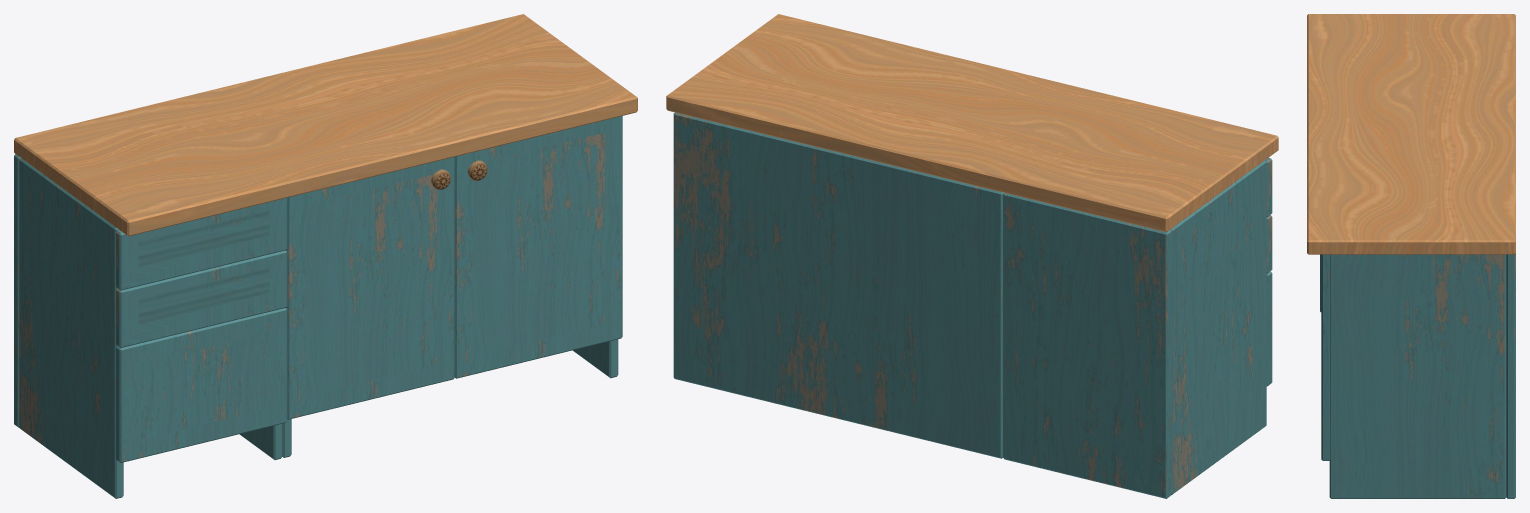
Rendered from drawer.glb.
3 views of the same model, side by side, from view 1: azimuth 30°, elevation 25°; view 2: azimuth 150°, elevation 25°; view 3: azimuth 270°, elevation 25° (orthographic). The views are drawn at different scales.
Parts seen in each view (by area): view 1: Cabinet_FrontA.005, CabinetTable_B.002, Cabinet_Side_B.012, Cabinet_FrontB.004, Cabinet_FrontC.003, Cabinet_Back_C.003, Cabinet_Side_B.011, Cabinet_Side_B.010; view 2: Cabinet_Back_B.005, CabinetTable_B.002, Cabinet_Back_C.003, Cabinet_Side_B.012, Cabinet_FrontC.003, Cabinet_FrontB.004; view 3: CabinetTable_B.002, Cabinet_Side_B.010, Cabinet_Back_B.005, Cabinet_FrontA.005.
Part boxes in pixels (left/top/right/bottom): Cabinet_FrontA.005: left=286, top=116, right=622, bottom=419; CabinetTable_B.002: left=14, top=14, right=637, bottom=236; Cabinet_Side_B.012: left=19, top=158, right=123, bottom=498; Cabinet_FrontB.004: left=116, top=308, right=287, bottom=462; Cabinet_FrontC.003: left=116, top=198, right=287, bottom=347; Cabinet_Back_C.003: left=14, top=154, right=20, bottom=427; Cabinet_Side_B.011: left=239, top=419, right=291, bottom=459; Cabinet_Side_B.010: left=573, top=339, right=618, bottom=378; Cabinet_Back_B.005: left=673, top=112, right=1003, bottom=458; CabinetTable_B.002: left=666, top=14, right=1278, bottom=232; Cabinet_Back_C.003: left=1003, top=193, right=1171, bottom=498; Cabinet_Side_B.012: left=1170, top=160, right=1266, bottom=494; Cabinet_FrontC.003: left=1265, top=157, right=1272, bottom=273; Cabinet_FrontB.004: left=1266, top=271, right=1272, bottom=386; CabinetTable_B.002: left=1307, top=14, right=1515, bottom=254; Cabinet_Side_B.010: left=1329, top=254, right=1506, bottom=498; Cabinet_Back_B.005: left=1506, top=253, right=1515, bottom=498; Cabinet_FrontA.005: left=1321, top=254, right=1330, bottom=460.
Size of the model in its own units: 1.68 by 0.9 by 0.65.
Materials: 1 (1 with a texture image).
